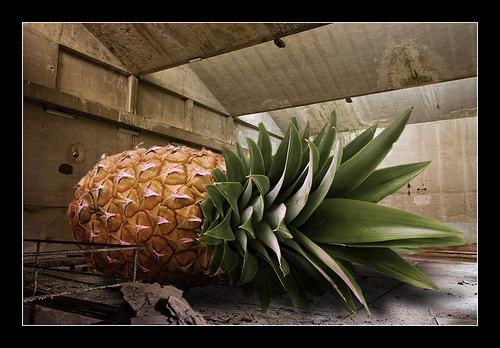pineapple: (65, 107, 466, 318)
